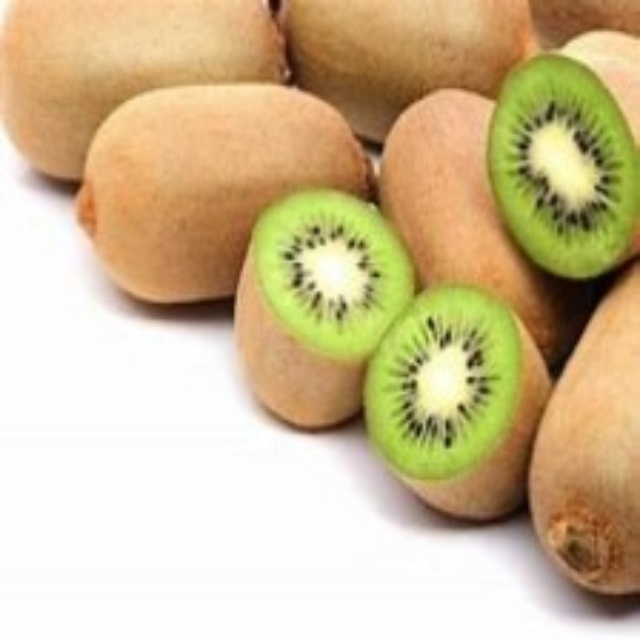kiwi: (71, 84, 367, 302), (357, 285, 556, 525), (229, 193, 412, 430), (382, 83, 546, 344), (529, 283, 639, 602), (477, 54, 638, 270)
